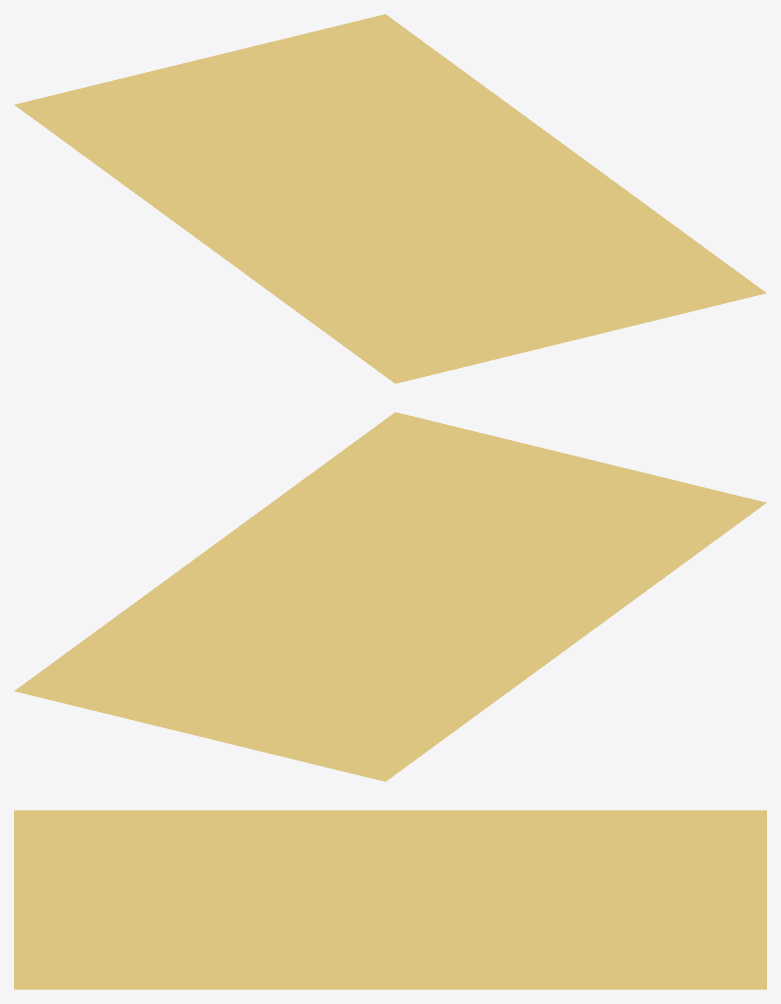
3 renders of one model, top to bottom at view 1: azimuth 30°, elevation 25°; view 2: azimuth 150°, elevation 25°; view 3: azimuth 270°, elevation 25°, orthographic.
Parts seen in each view (by area): view 1: Plane__1_; view 2: Plane__1_; view 3: Plane__1_.
Boxes of the visible parts, x1,y1,x2,y2 form: Plane__1_: [14, 14, 766, 383]; Plane__1_: [14, 412, 766, 781]; Plane__1_: [14, 810, 766, 989].
Size of the model in its own units: 1125 by 2.22e-14 by 2000.
